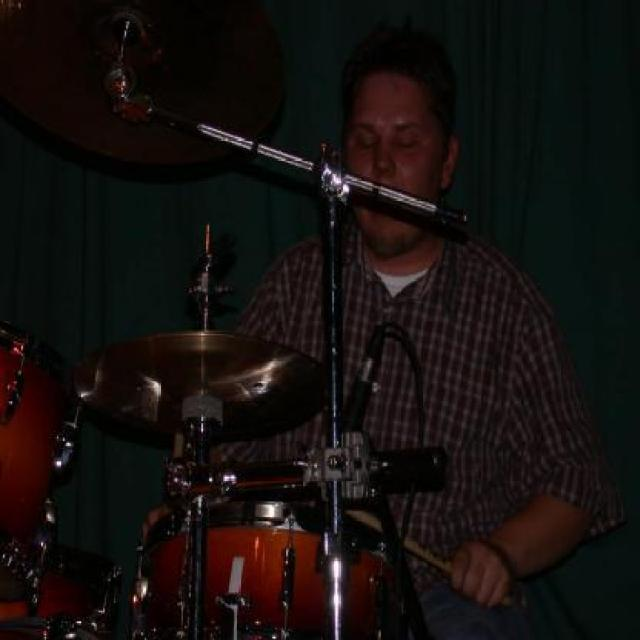Person: (135, 36, 603, 638)
